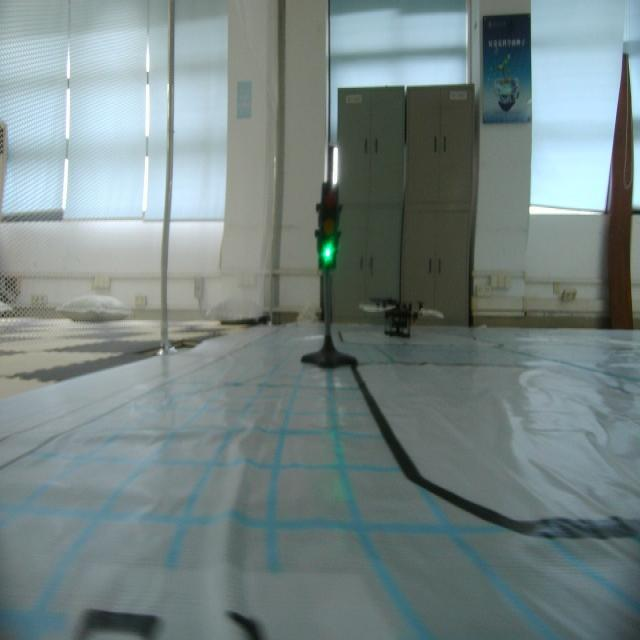green: (313, 180, 345, 273)
